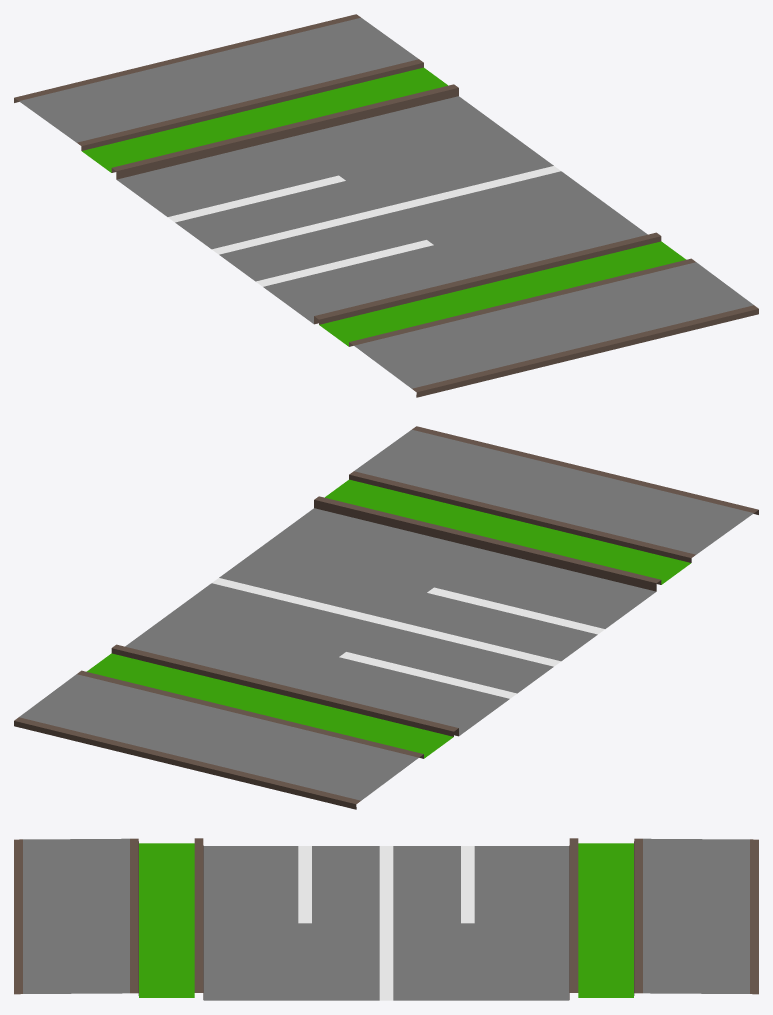
Rendered from SM_Road_P34.fbx.
The picture shows the model from 3 angles, top to bottom: view 1: azimuth 30°, elevation 25°; view 2: azimuth 150°, elevation 25°; view 3: azimuth 270°, elevation 25°; orthographic projection. The views are drawn at different scales.
Parts seen in each view (by area): view 1: SM_Road_P34; view 2: SM_Road_P34; view 3: SM_Road_P34.
Part boxes in pixels (x1,y1,x2,y2): SM_Road_P34: [14, 14, 758, 397]; SM_Road_P34: [14, 426, 758, 809]; SM_Road_P34: [14, 838, 758, 1000].
Size of the model in its own units: 1221 by 28.46 by 2485.
